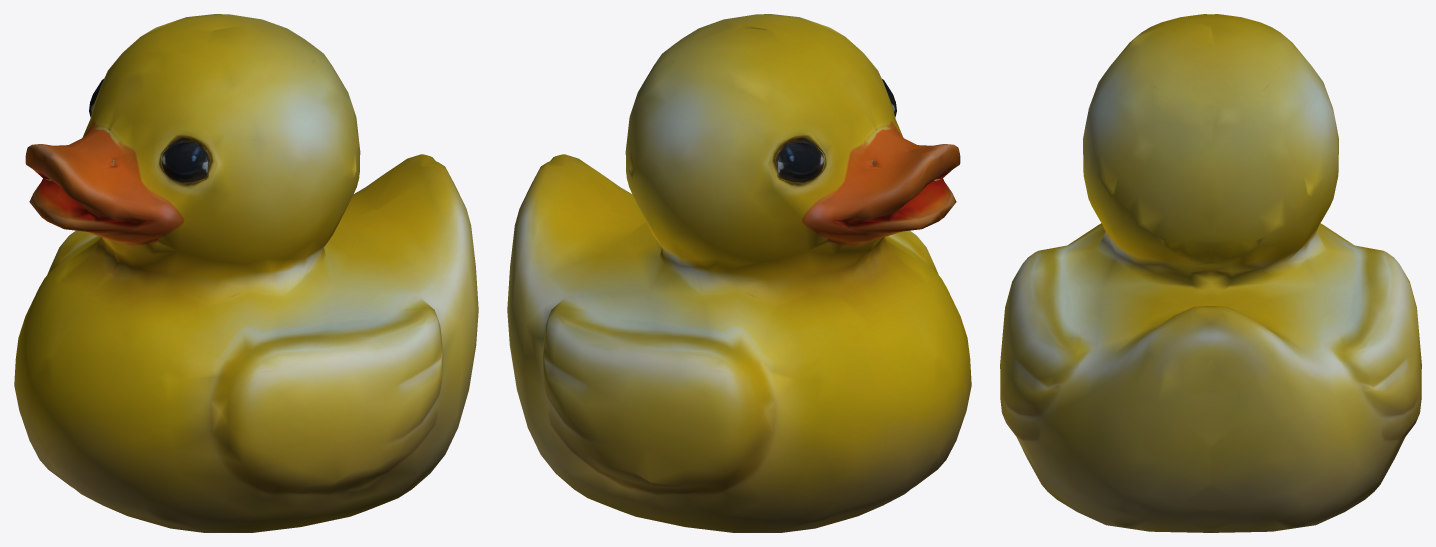
File: rubberduck.glb
The picture shows the model from 3 angles, left to right: view 1: azimuth 30°, elevation 25°; view 2: azimuth 150°, elevation 25°; view 3: azimuth 270°, elevation 25°; orthographic projection. The views are drawn at different scales.
Parts seen in each view (by area): view 1: node_0; view 2: node_0; view 3: node_0.
Boxes of the visible parts, x1,y1,x2,y2 form: node_0: (14, 14, 478, 532); node_0: (507, 14, 971, 532); node_0: (1000, 14, 1421, 532).
Bounding box in the file's own units: 0.8681 × 0.9007 × 0.8007.
1 material, 1 textured.
